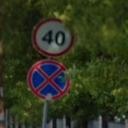speed_limit_40: (32, 17, 76, 58)
